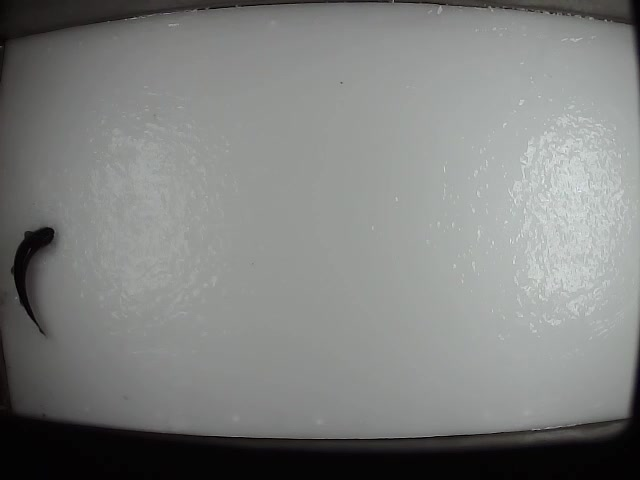fish: (7, 222, 63, 338)
